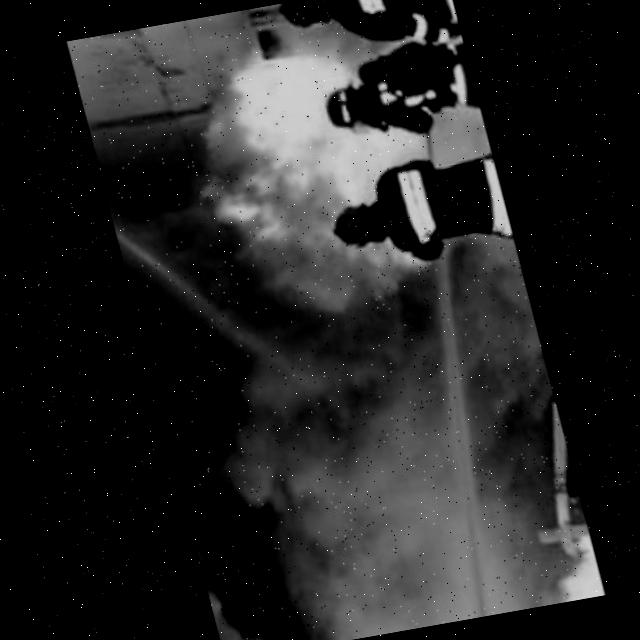fire: (175, 30, 413, 311)
